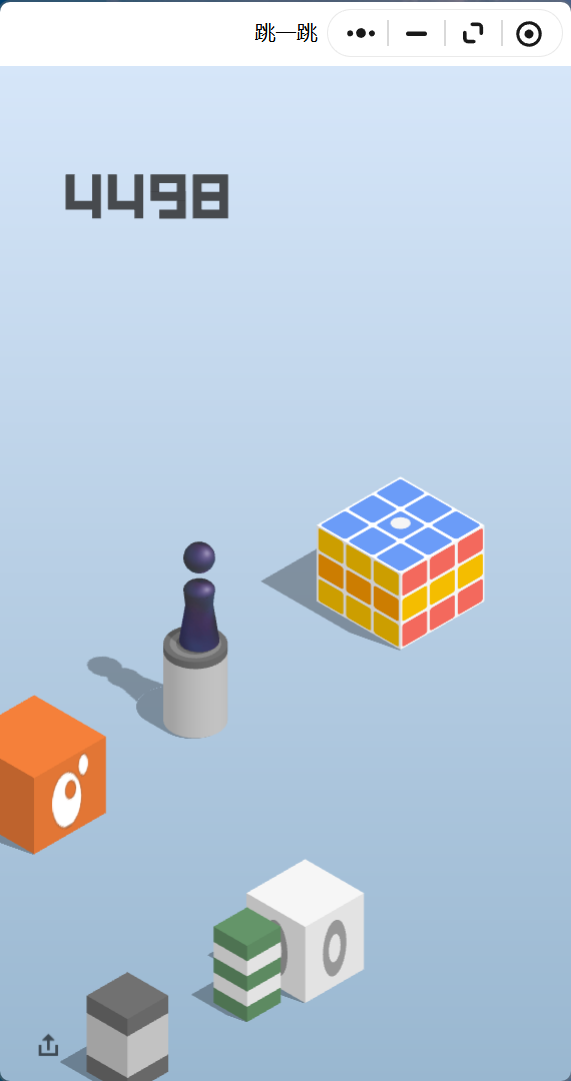piece: (183, 542, 214, 648)
target: (319, 477, 484, 572)
